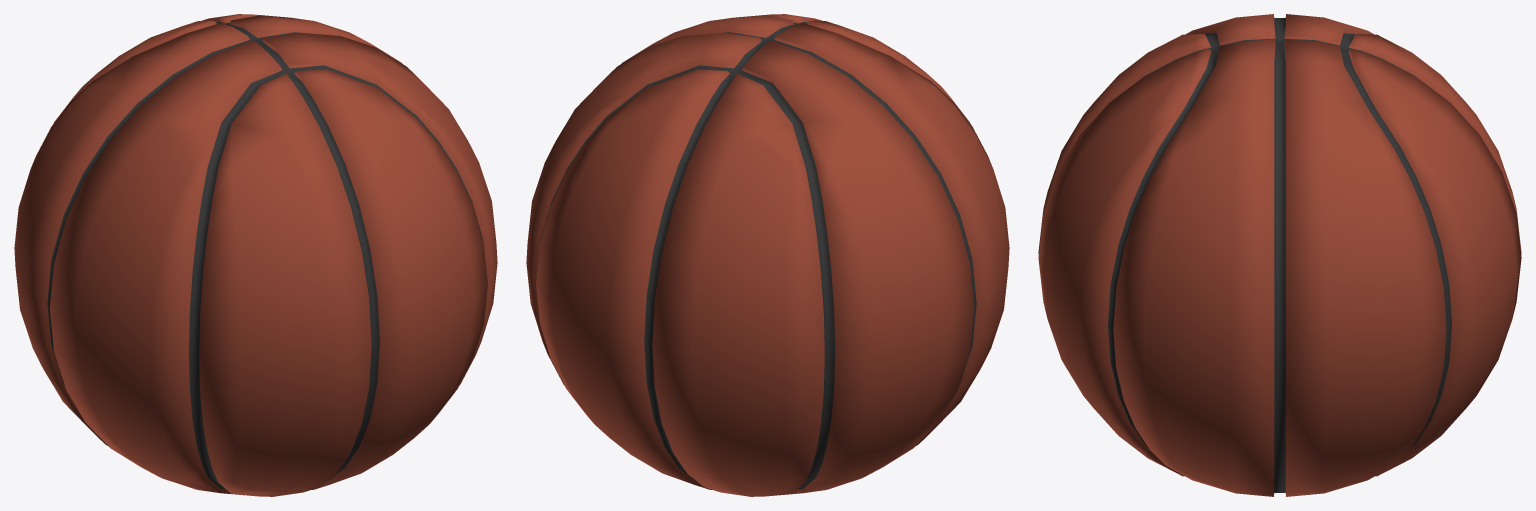
The model's file is Pelota_Basket_LowPoly.fbx.
3 renders of one model, left to right at view 1: azimuth 30°, elevation 25°; view 2: azimuth 150°, elevation 25°; view 3: azimuth 270°, elevation 25°, orthographic.
Visible parts, largest first — view 1: LowPoly; view 2: LowPoly; view 3: LowPoly.
Part boxes in pixels (box(x1,y1,x2,y2)): LowPoly: box(14, 14, 497, 496); LowPoly: box(526, 14, 1009, 496); LowPoly: box(1038, 14, 1521, 496).
Size of the model in its own units: 164 by 164 by 164.
